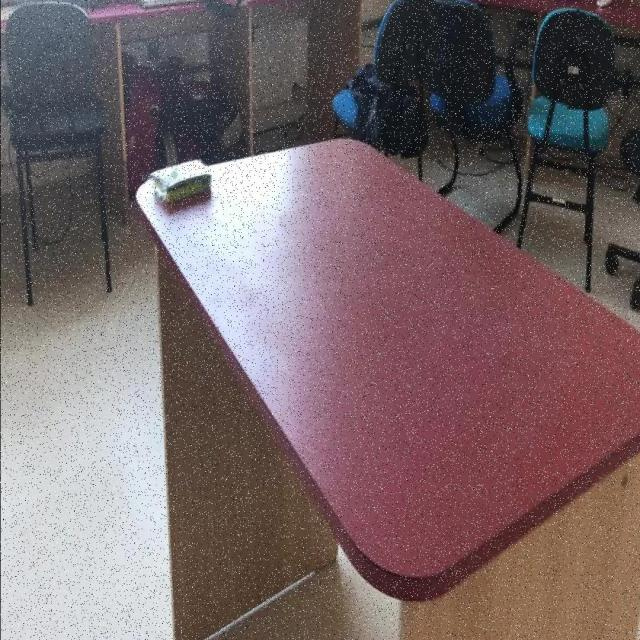Sponge: (135, 135, 640, 606), (527, 97, 611, 157), (155, 175, 212, 205)
